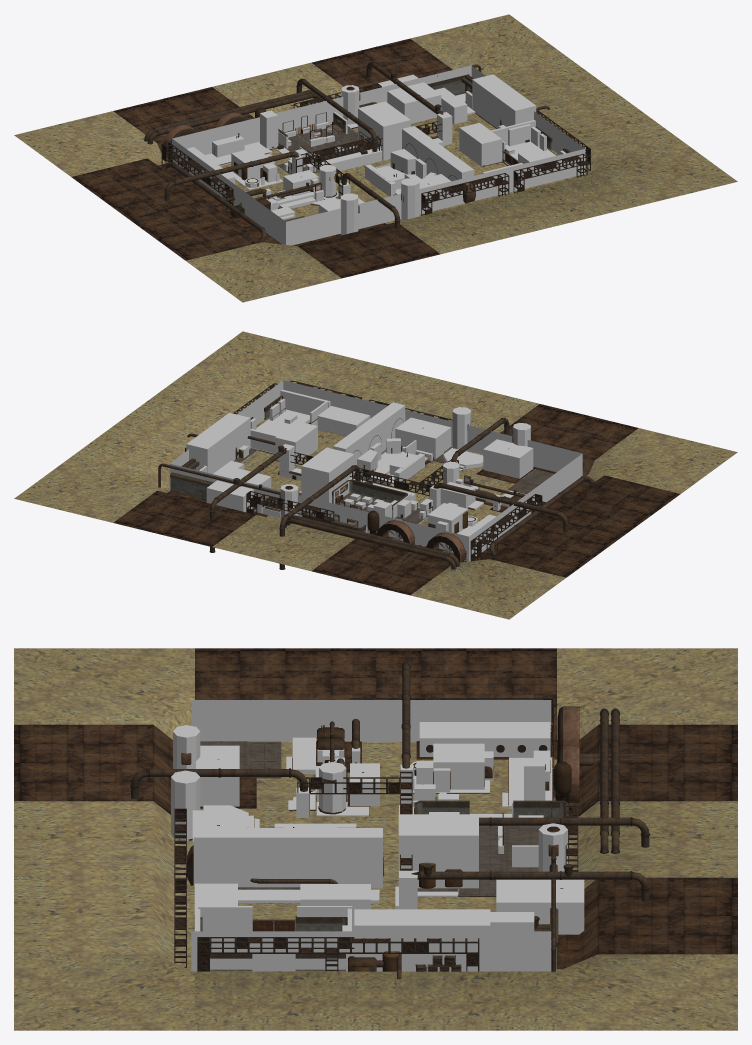
File: environment.fbx
3 renders of one model, top to bottom at view 1: azimuth 30°, elevation 25°; view 2: azimuth 150°, elevation 25°; view 3: azimuth 270°, elevation 25°, orthographic. The views are drawn at different scales.
Parts seen in each view (by area): view 1: environment:main, environment:proxy; view 2: environment:main, environment:proxy; view 3: environment:main, environment:proxy.
Boxes of the visible parts, x1,y1,x2,y2 form: environment:main: (14,14,737,302); environment:proxy: (172,65,585,245); environment:main: (14,331,737,619); environment:proxy: (169,380,582,561); environment:main: (14,648,737,1030); environment:proxy: (171,700,584,971).
Bounding box in the file's own units: 9589 × 1109 × 7671.
Materials: 108 (105 with a texture image).
